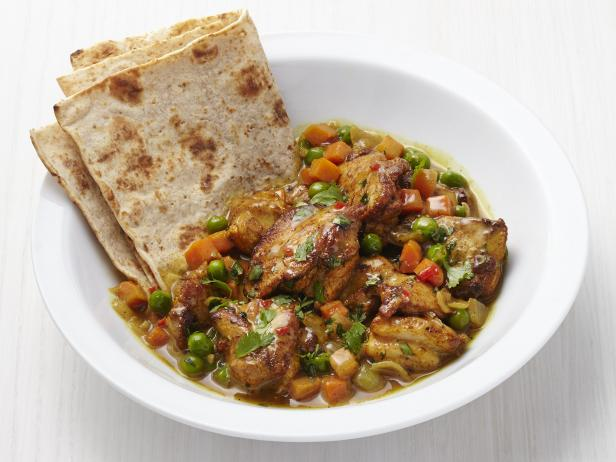curry: (181, 100, 499, 418)
roti: (39, 11, 294, 266)
